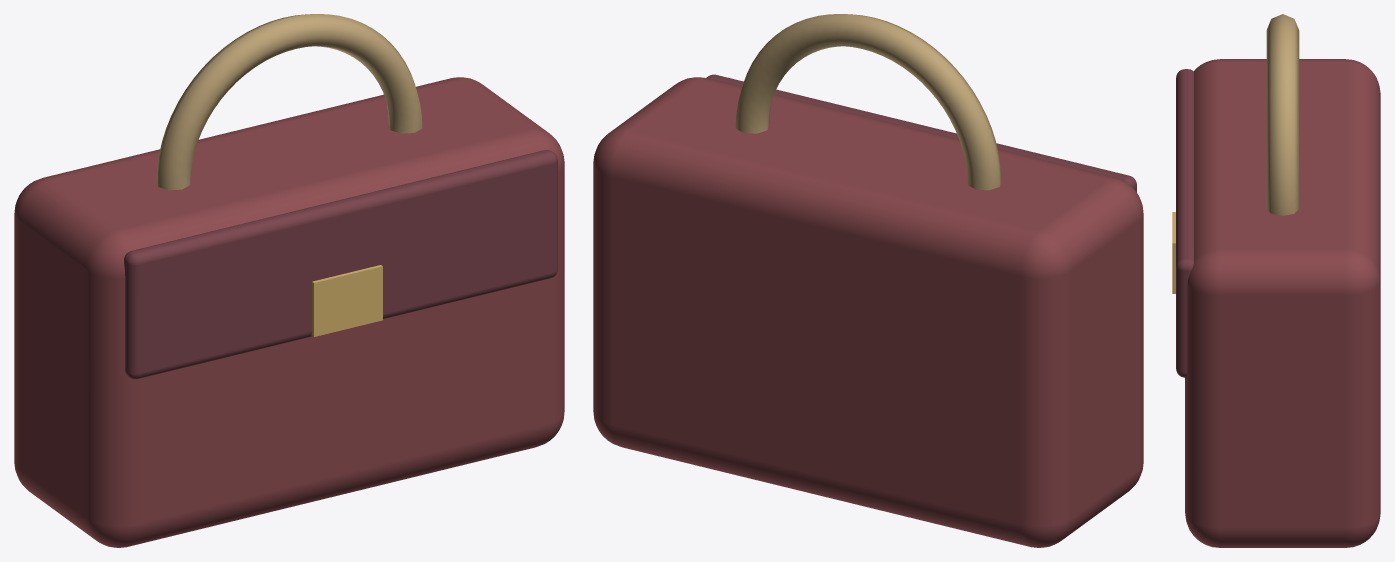
Rendered from atelier-bag.glb.
The picture shows the model from 3 angles, left to right: view 1: azimuth 30°, elevation 25°; view 2: azimuth 150°, elevation 25°; view 3: azimuth 270°, elevation 25°; orthographic projection. The views are drawn at different scales.
Size of the model in its own units: 1.1 by 1.01 by 0.4475.
